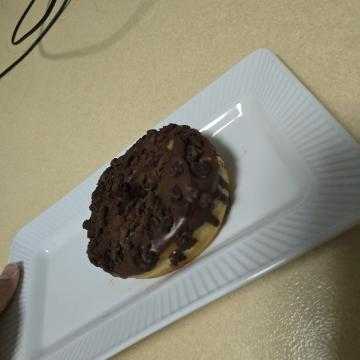doughnut: (108, 116, 291, 294)
